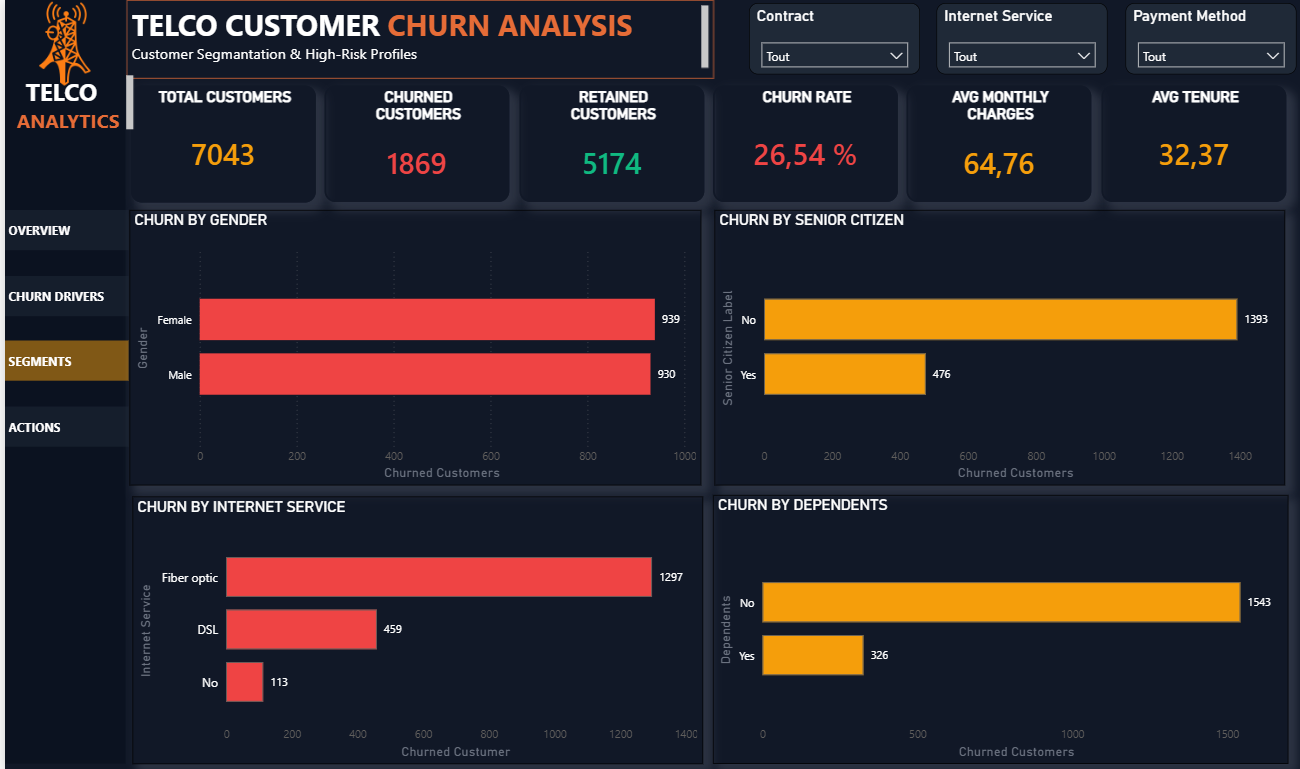

The page's visual inventory and layout, read from the dashboard file:
{"tool":"powerbi","page":{"name":"Segments","canvas":[1440,860],"ordinal":2},"visuals":[{"type":"shape","box":[0,0,134,848.6],"z":0},{"type":"textbox","box":[135.7,0,652.7,87.6],"z":1000},{"type":"cardVisual","title":"TOTAL CUSTOMERS","fields":{"Data":["WA_Fn-UseC_-Telco-Customer-Churn.Total Customers"]},"box":[139.7,95.4,205,130],"z":2000},{"type":"cardVisual","title":"CHURNED CUSTOMERS","fields":{"Data":["WA_Fn-UseC_-Telco-Customer-Churn.Churned Customers"]},"box":[355.3,95.4,205,129.5],"z":3000},{"type":"cardVisual","title":"RETAINED CUSTOMERS","fields":{"Data":["WA_Fn-UseC_-Telco-Customer-Churn.Retained Customers"]},"box":[571,95.4,205,129.5],"z":4000},{"type":"cardVisual","title":"CHURN RATE","fields":{"Data":["WA_Fn-UseC_-Telco-Customer-Churn.Churn Rate"]},"box":[786.7,95.4,205,129.5],"z":5000},{"type":"cardVisual","title":"AVG MONTHLY CHARGES","fields":{"Data":["WA_Fn-UseC_-Telco-Customer-Churn.AVG Monthly Charges"]},"box":[1002.3,95.4,205,129.5],"z":6000},{"type":"cardVisual","title":"AVG TENURE","fields":{"Data":["WA_Fn-UseC_-Telco-Customer-Churn.AVG Tenure"]},"box":[1218,95.4,205,129.5],"z":7000},{"type":"clusteredBarChart","title":"CHURN BY GENDER","fields":{"Category":["WA_Fn-UseC_-Telco-Customer-Churn.gender"],"Y":["WA_Fn-UseC_-Telco-Customer-Churn.Churned Customers"]},"box":[139.1,233.6,635.6,305.8],"z":8000},{"type":"clusteredBarChart","title":"CHURN BY SENIOR CITIZEN","fields":{"Y":["WA_Fn-UseC_-Telco-Customer-Churn.Churned Customers"],"Category":["WA_Fn-UseC_-Telco-Customer-Churn.Senior Citizen Label"]},"box":[788.4,233.6,633.8,305.8],"z":9000},{"type":"clusteredBarChart","title":"CHURN BY INTERNET SERVICE","fields":{"Category":["WA_Fn-UseC_-Telco-Customer-Churn.InternetService"],"Y":["WA_Fn-UseC_-Telco-Customer-Churn.Churned Customers"]},"box":[140.9,551.4,633.8,297.2],"z":10000},{"type":"clusteredBarChart","title":"CHURN BY DEPENDENTS","fields":{"Category":["WA_Fn-UseC_-Telco-Customer-Churn.Dependents"],"Y":["WA_Fn-UseC_-Telco-Customer-Churn.Churned Customers"]},"box":[786.7,549.7,639,298.9],"z":11000},{"type":"textbox","box":[0,79,147.7,87.6],"z":12000},{"type":"actionButton","title":"OVERVIEW","box":[0,233.6,137.4,44.7],"z":13000},{"type":"actionButton","title":"OVERVIEW","box":[0,306.3,137.4,44.7],"z":14000},{"type":"actionButton","title":"OVERVIEW","box":[0,379,137.4,44.7],"z":15000},{"type":"actionButton","title":"OVERVIEW","box":[0,451.8,137.4,44.7],"z":16000},{"type":"slicer","title":"Contract","fields":{"Values":["WA_Fn-UseC_-Telco-Customer-Churn.Contract"]},"box":[826.2,3.4,190,79],"z":17000},{"type":"slicer","title":"Internet Service","fields":{"Values":["WA_Fn-UseC_-Telco-Customer-Churn.InternetService"]},"box":[1035.8,3.4,190,79],"z":18000},{"type":"slicer","title":"Payment  Method","fields":{"Values":["WA_Fn-UseC_-Telco-Customer-Churn.PaymentMethod"]},"box":[1245.4,3.4,190,79],"z":19000},{"type":"image","box":[0,0,134,96.2],"z":20000}]}

Visuals, with their boxes in screenshot pixels (x1, y1, x2, y2), scaled from the page's 1440x860 canvas onto the 1300x769 screenshot:
shape: x1=0, y1=0, x2=121, y2=759
textbox: x1=123, y1=0, x2=712, y2=78
"TOTAL CUSTOMERS" cardVisual: x1=126, y1=85, x2=311, y2=202
"CHURNED CUSTOMERS" cardVisual: x1=321, y1=85, x2=506, y2=201
"RETAINED CUSTOMERS" cardVisual: x1=515, y1=85, x2=701, y2=201
"CHURN RATE" cardVisual: x1=710, y1=85, x2=895, y2=201
"AVG MONTHLY CHARGES" cardVisual: x1=905, y1=85, x2=1090, y2=201
"AVG TENURE" cardVisual: x1=1100, y1=85, x2=1285, y2=201
"CHURN BY GENDER" clusteredBarChart: x1=126, y1=209, x2=699, y2=482
"CHURN BY SENIOR CITIZEN" clusteredBarChart: x1=712, y1=209, x2=1284, y2=482
"CHURN BY INTERNET SERVICE" clusteredBarChart: x1=127, y1=493, x2=699, y2=759
"CHURN BY DEPENDENTS" clusteredBarChart: x1=710, y1=492, x2=1287, y2=759
textbox: x1=0, y1=71, x2=133, y2=149
"OVERVIEW" actionButton: x1=0, y1=209, x2=124, y2=249
"OVERVIEW" actionButton: x1=0, y1=274, x2=124, y2=314
"OVERVIEW" actionButton: x1=0, y1=339, x2=124, y2=379
"OVERVIEW" actionButton: x1=0, y1=404, x2=124, y2=444
"Contract" slicer: x1=746, y1=3, x2=917, y2=74
"Internet Service" slicer: x1=935, y1=3, x2=1107, y2=74
"Payment  Method" slicer: x1=1124, y1=3, x2=1296, y2=74
image: x1=0, y1=0, x2=121, y2=86
